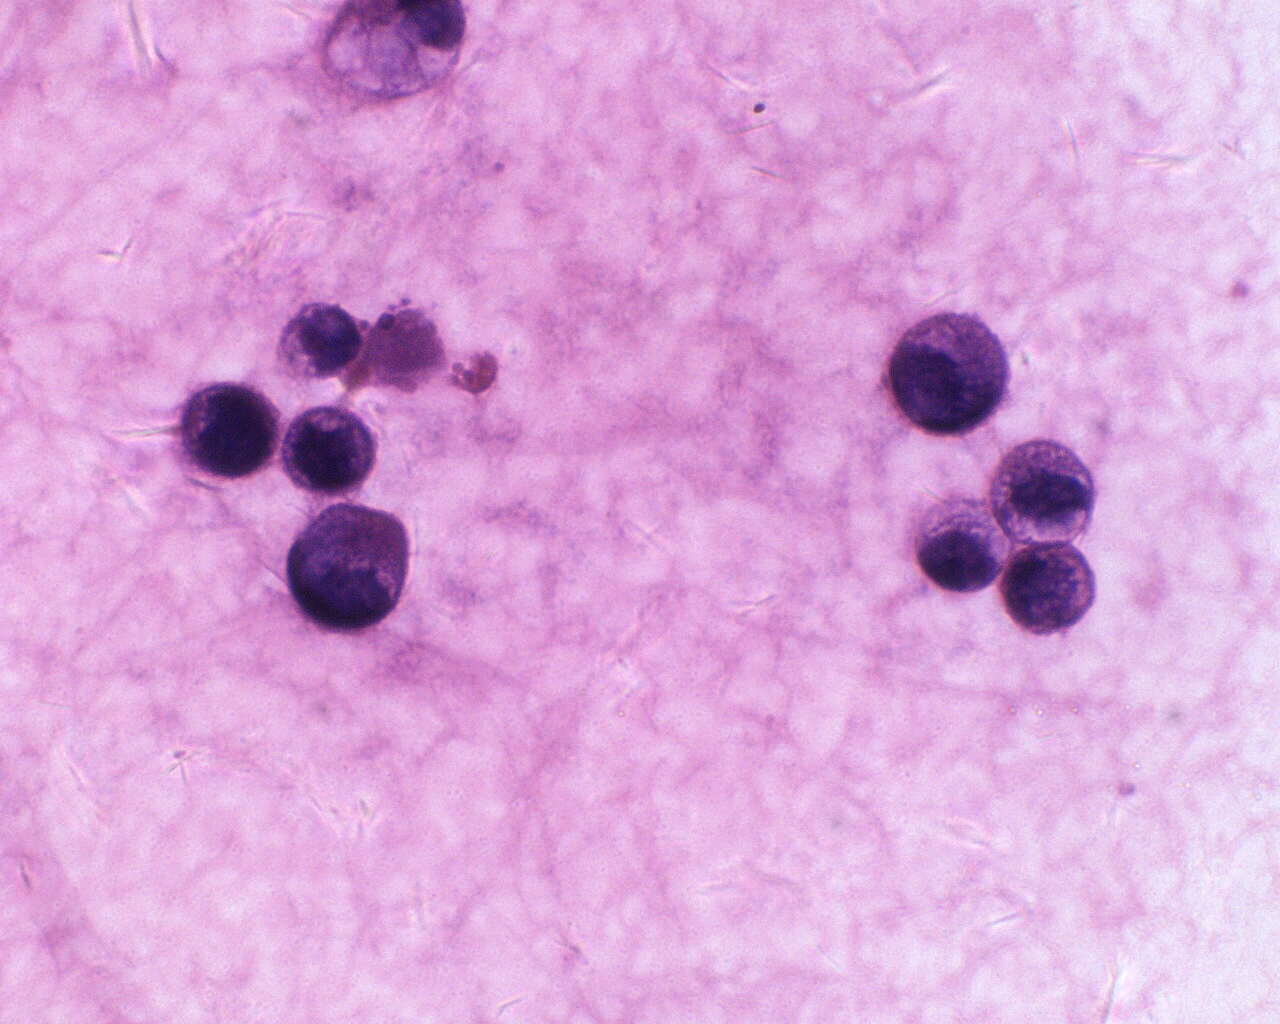ab: (286, 501, 419, 635), (884, 305, 1016, 436), (991, 433, 1101, 546), (174, 377, 280, 482), (911, 493, 1009, 597), (279, 401, 375, 498), (999, 538, 1096, 634), (278, 299, 366, 385)
